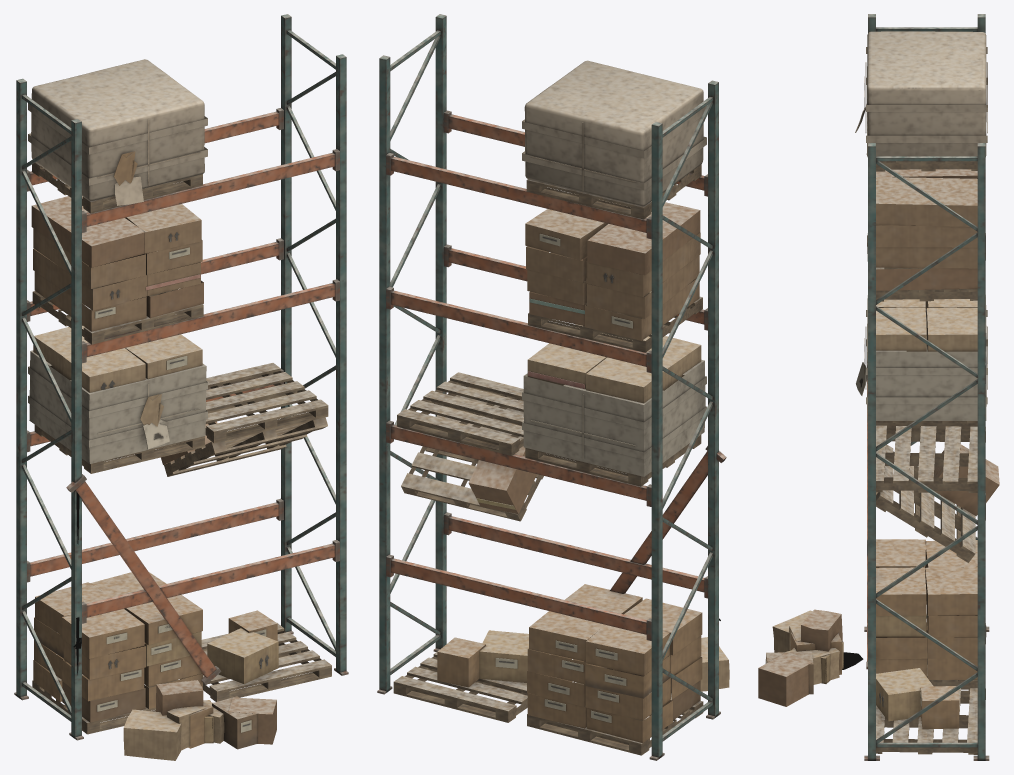
The model's file is rack_toppled_beam.fbx.
The picture shows the model from 3 angles, left to right: view 1: azimuth 30°, elevation 25°; view 2: azimuth 150°, elevation 25°; view 3: azimuth 270°, elevation 25°; orthographic projection. The views are drawn at different scales.
Visible parts, largest first — view 1: Body; view 2: Body; view 3: Body.
Boxes of the visible parts, <box> form: Body: <box>14,14,348,760</box>; Body: <box>377,14,729,760</box>; Body: <box>758,14,999,760</box>.
Size of the model in its own units: 12.29 by 26.05 by 9.26.
Materials: 1 (1 with a texture image).
